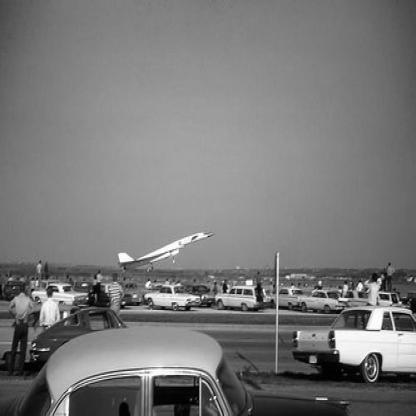XB70: (118, 232, 218, 275)
